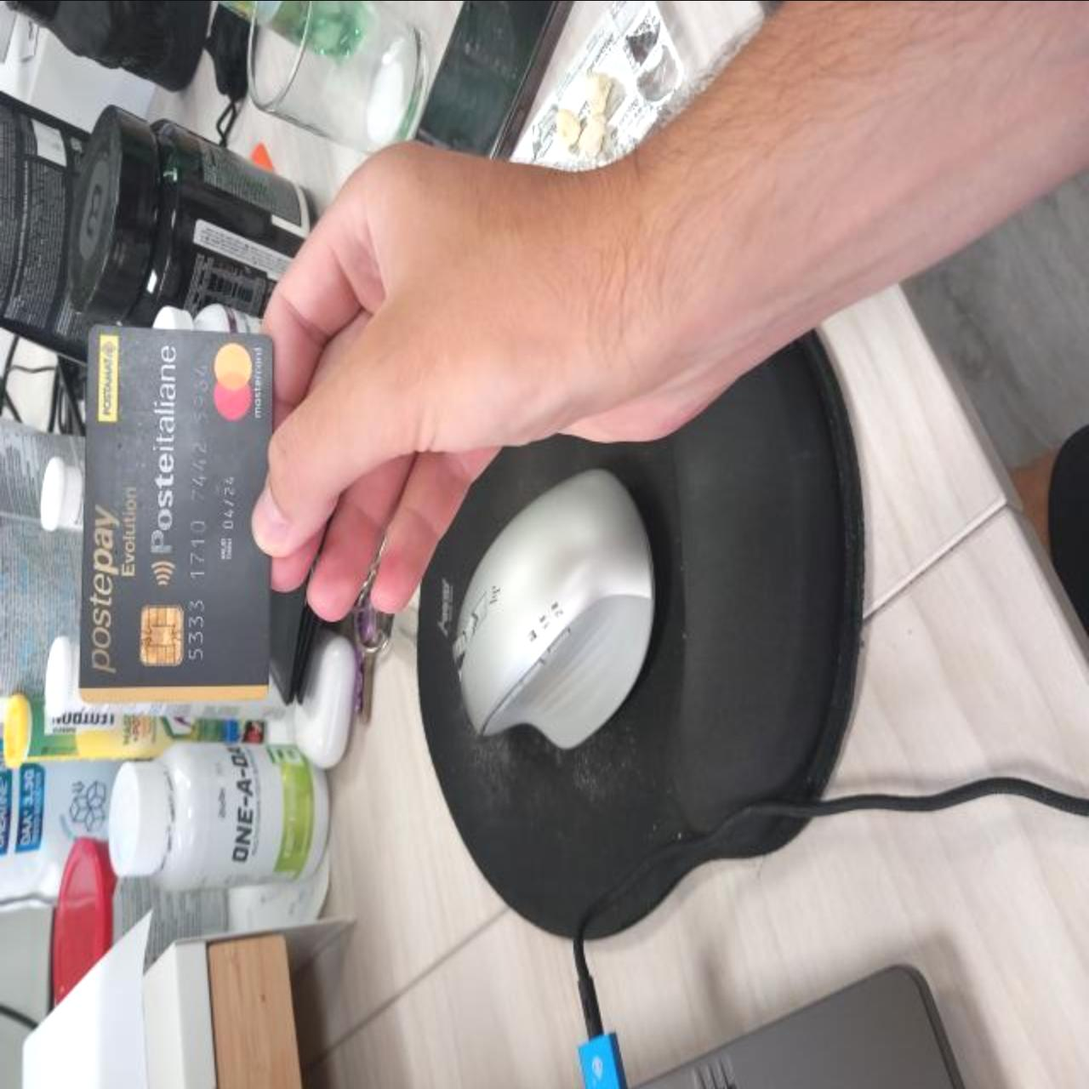credit_card: (61, 320, 282, 715)
